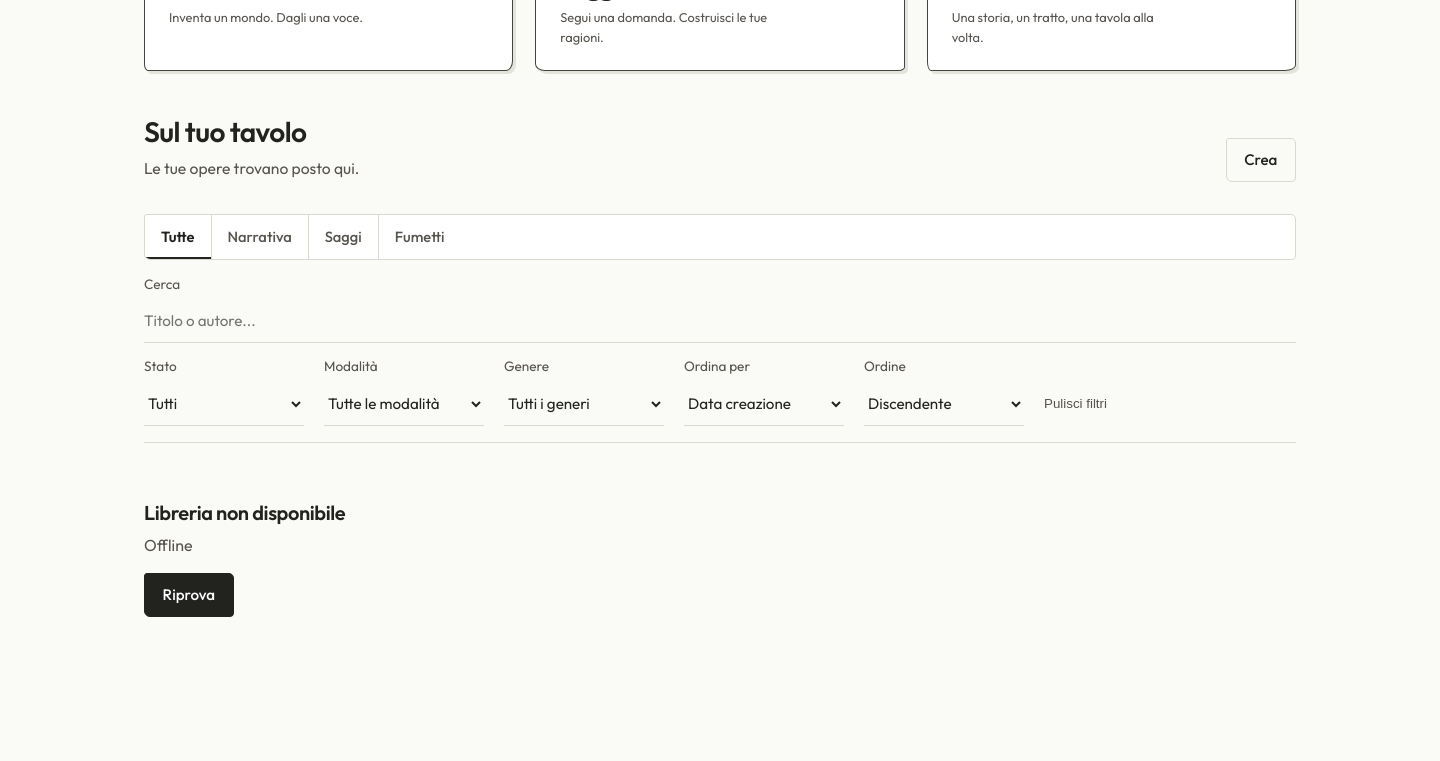
Scenario: LibraryView › offers retry after a network error instead of claiming the library is empty
(page scrolled)
Expected: the heading "Libreria non disponibile" is shown, [144,498,345,526]
Click the button "Riprova": (189, 595) [144,573,234,617]
(page scrolled)
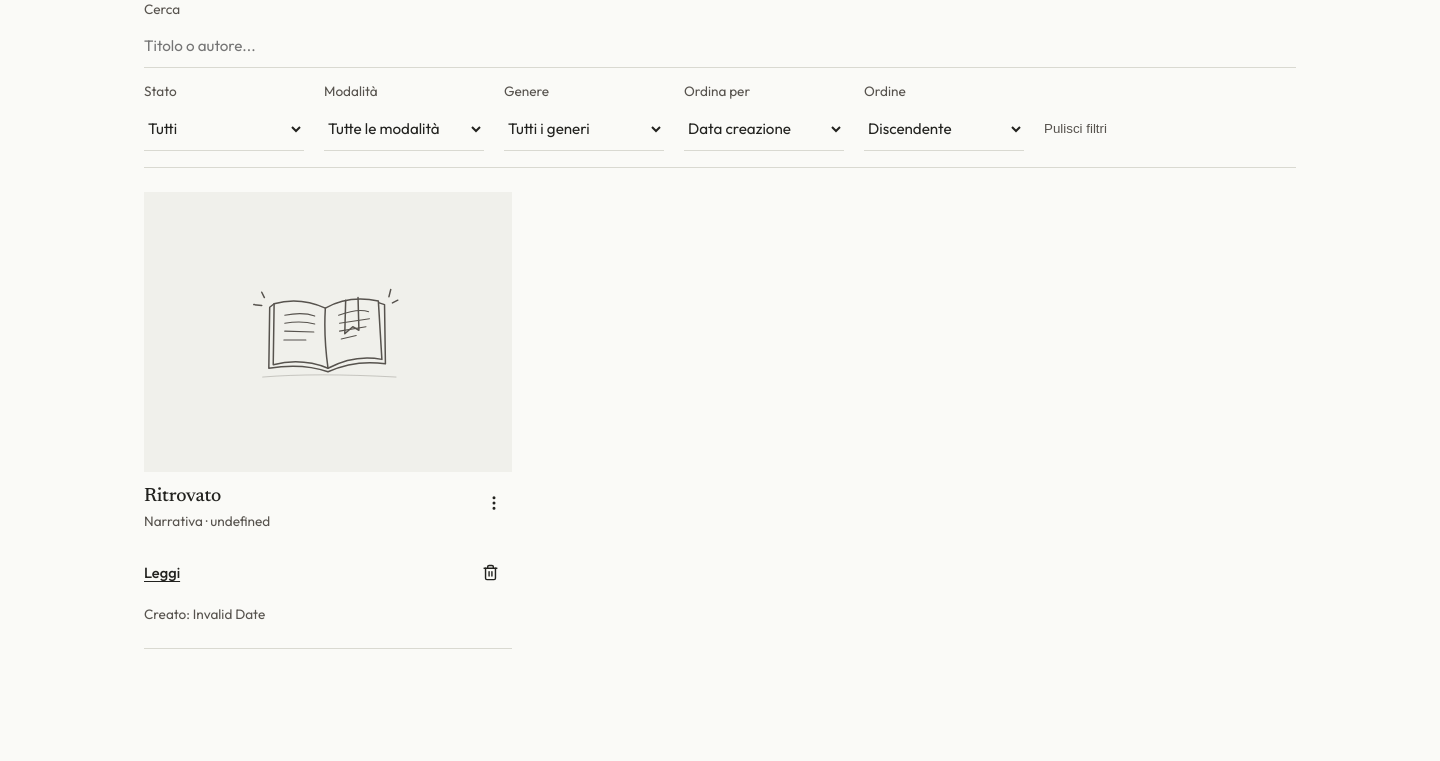
Expected: the link "Ritrovato" is shown, [144,487,221,506]
